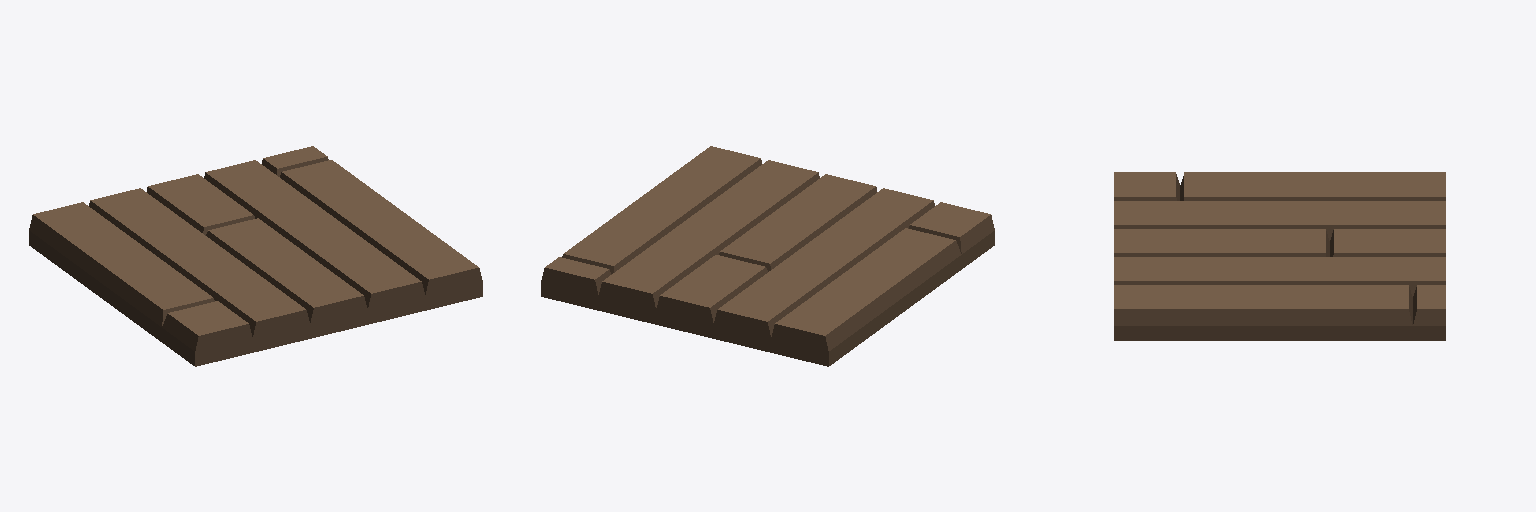
File: Wood_Floor_Straight_2.obj
3 renders of one model, left to right at view 1: azimuth 30°, elevation 25°; view 2: azimuth 150°, elevation 25°; view 3: azimuth 270°, elevation 25°, orthographic.
Visible parts, largest first — view 1: object1; view 2: object1; view 3: object1.
Part boxes in pixels (x1,y1,x2,y2): object1: (29,146,482,366); object1: (541,146,994,366); object1: (1114,172,1445,340).
Size of the model in its own units: 1 by 0.1 by 1.